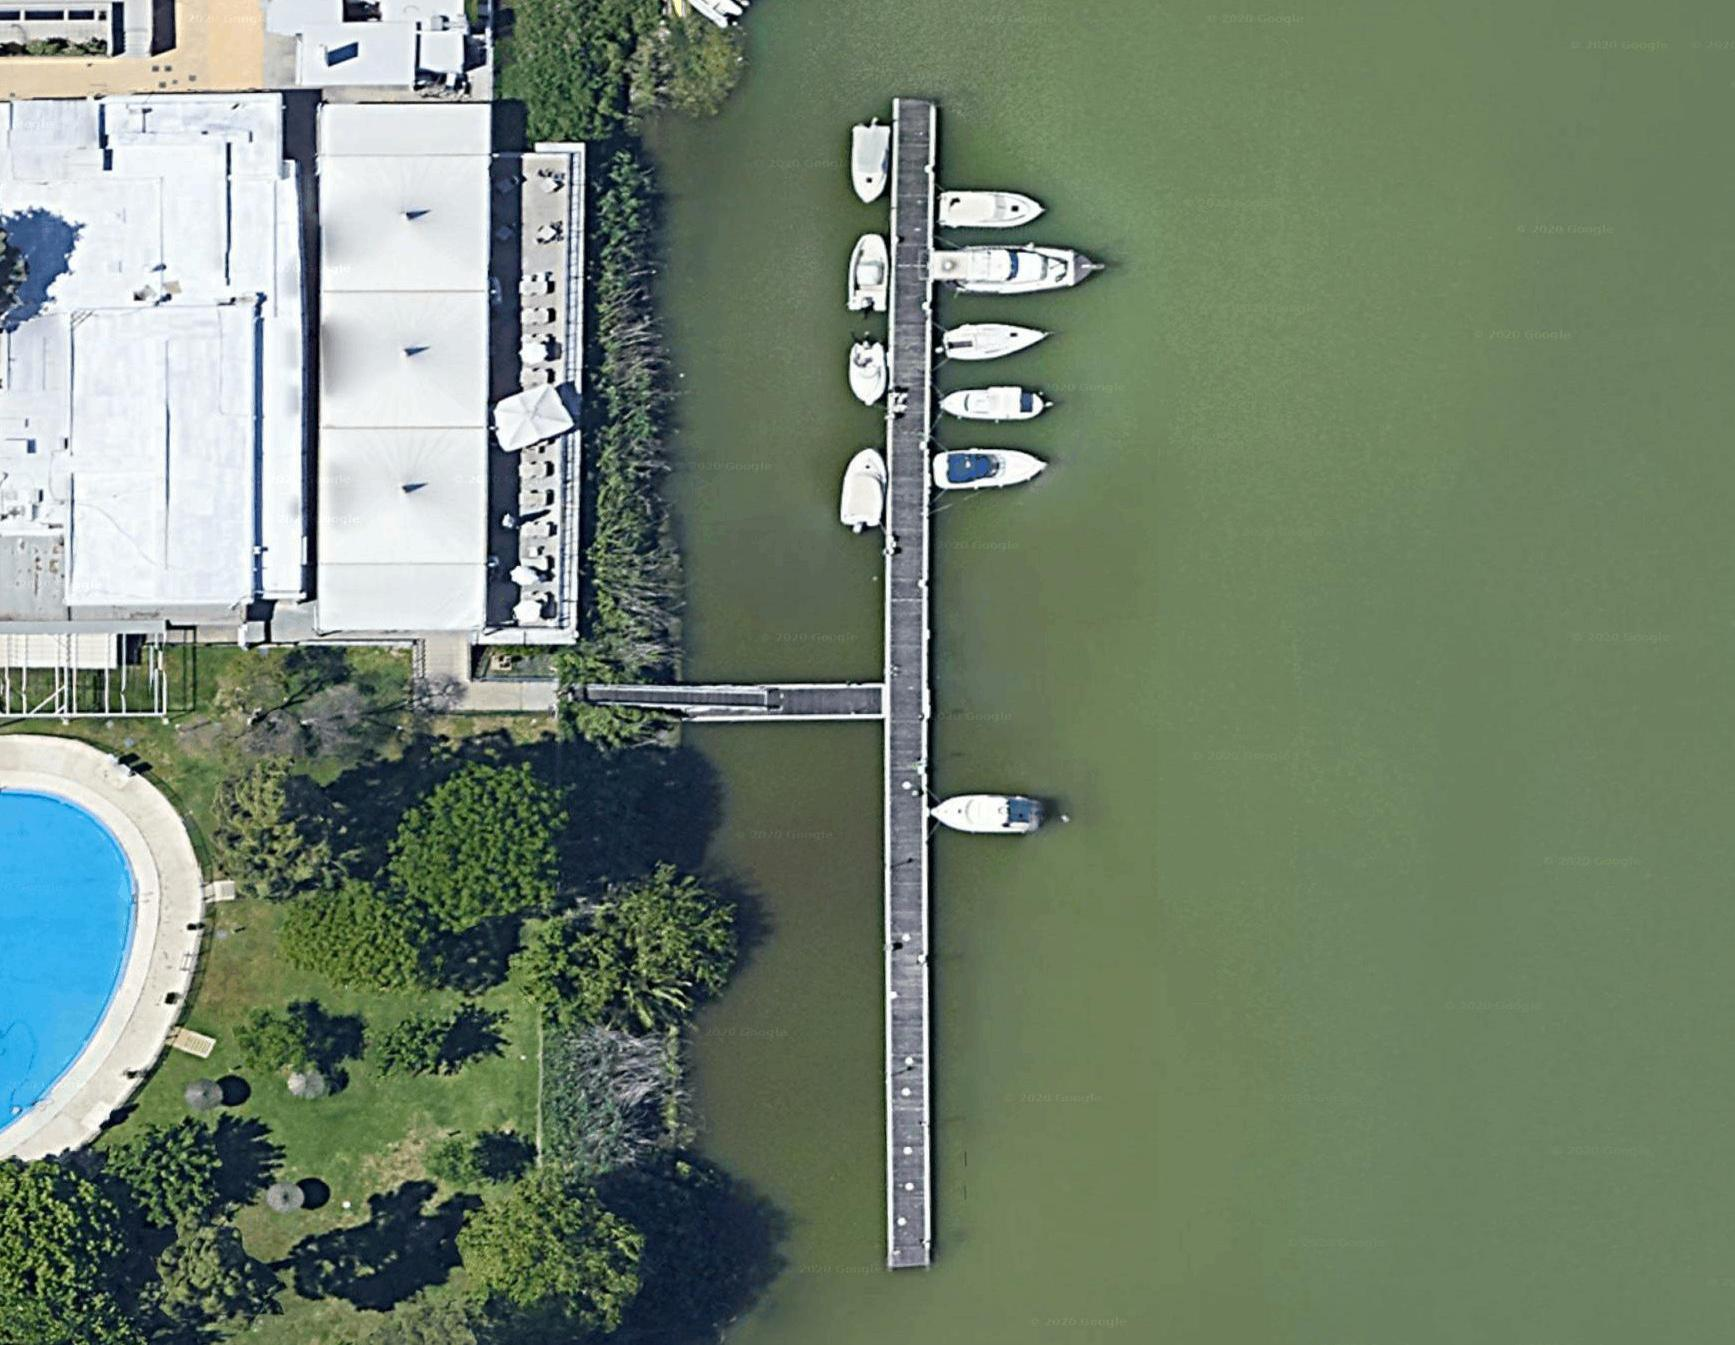harbor: (813, 65, 998, 1294)
ship: (931, 239, 1096, 293), (927, 789, 1049, 844), (935, 184, 1051, 231), (931, 446, 1051, 490), (935, 318, 1053, 361), (838, 441, 886, 534), (846, 228, 891, 313), (849, 120, 890, 207), (953, 383, 1045, 421), (848, 331, 887, 406)
swimming-pool: (1, 751, 192, 1186)
